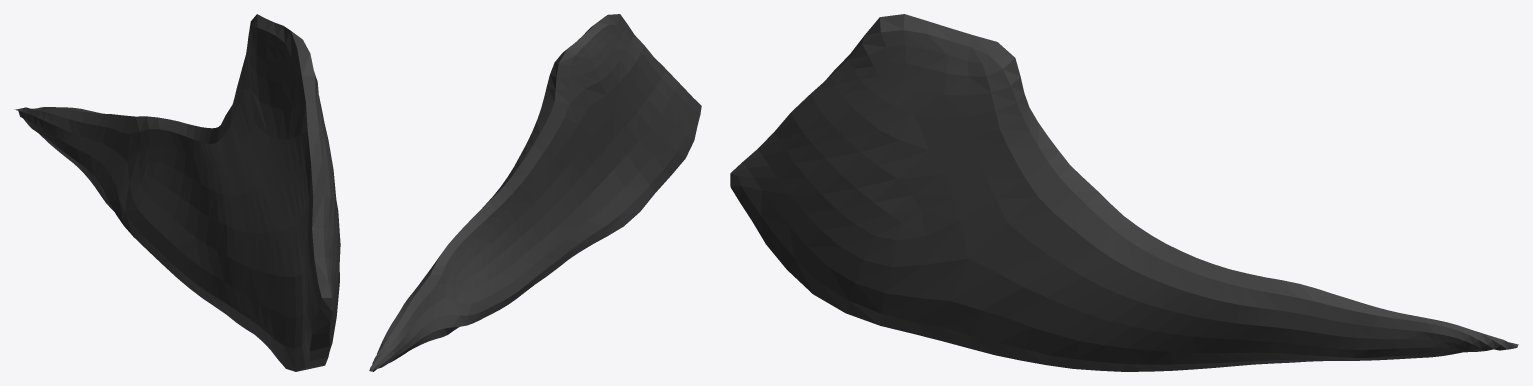
File: Serratus_thoracis.glb
3 renders of one model, left to right at view 1: azimuth 30°, elevation 25°; view 2: azimuth 150°, elevation 25°; view 3: azimuth 270°, elevation 25°, orthographic. The views are drawn at different scales.
Visible parts, largest first — view 1: Serratus_thoracis; view 2: Serratus_thoracis; view 3: Serratus_thoracis.
Part boxes in pixels (left/top/right/bottom): Serratus_thoracis: left=14, top=14, right=340, bottom=371; Serratus_thoracis: left=369, top=14, right=701, bottom=371; Serratus_thoracis: left=730, top=14, right=1518, bottom=371.
Size of the model in its own units: 0.2113 by 0.5313 by 1.1.
Materials: 1 (1 with a texture image).
